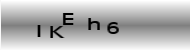6: (106, 20, 119, 35)
E: (61, 12, 76, 26)
K: (48, 24, 64, 39)
h: (86, 17, 100, 31)
l: (36, 24, 41, 38)
